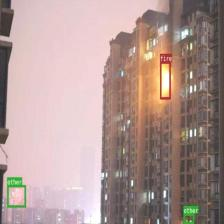fire: (160, 61, 170, 99)
